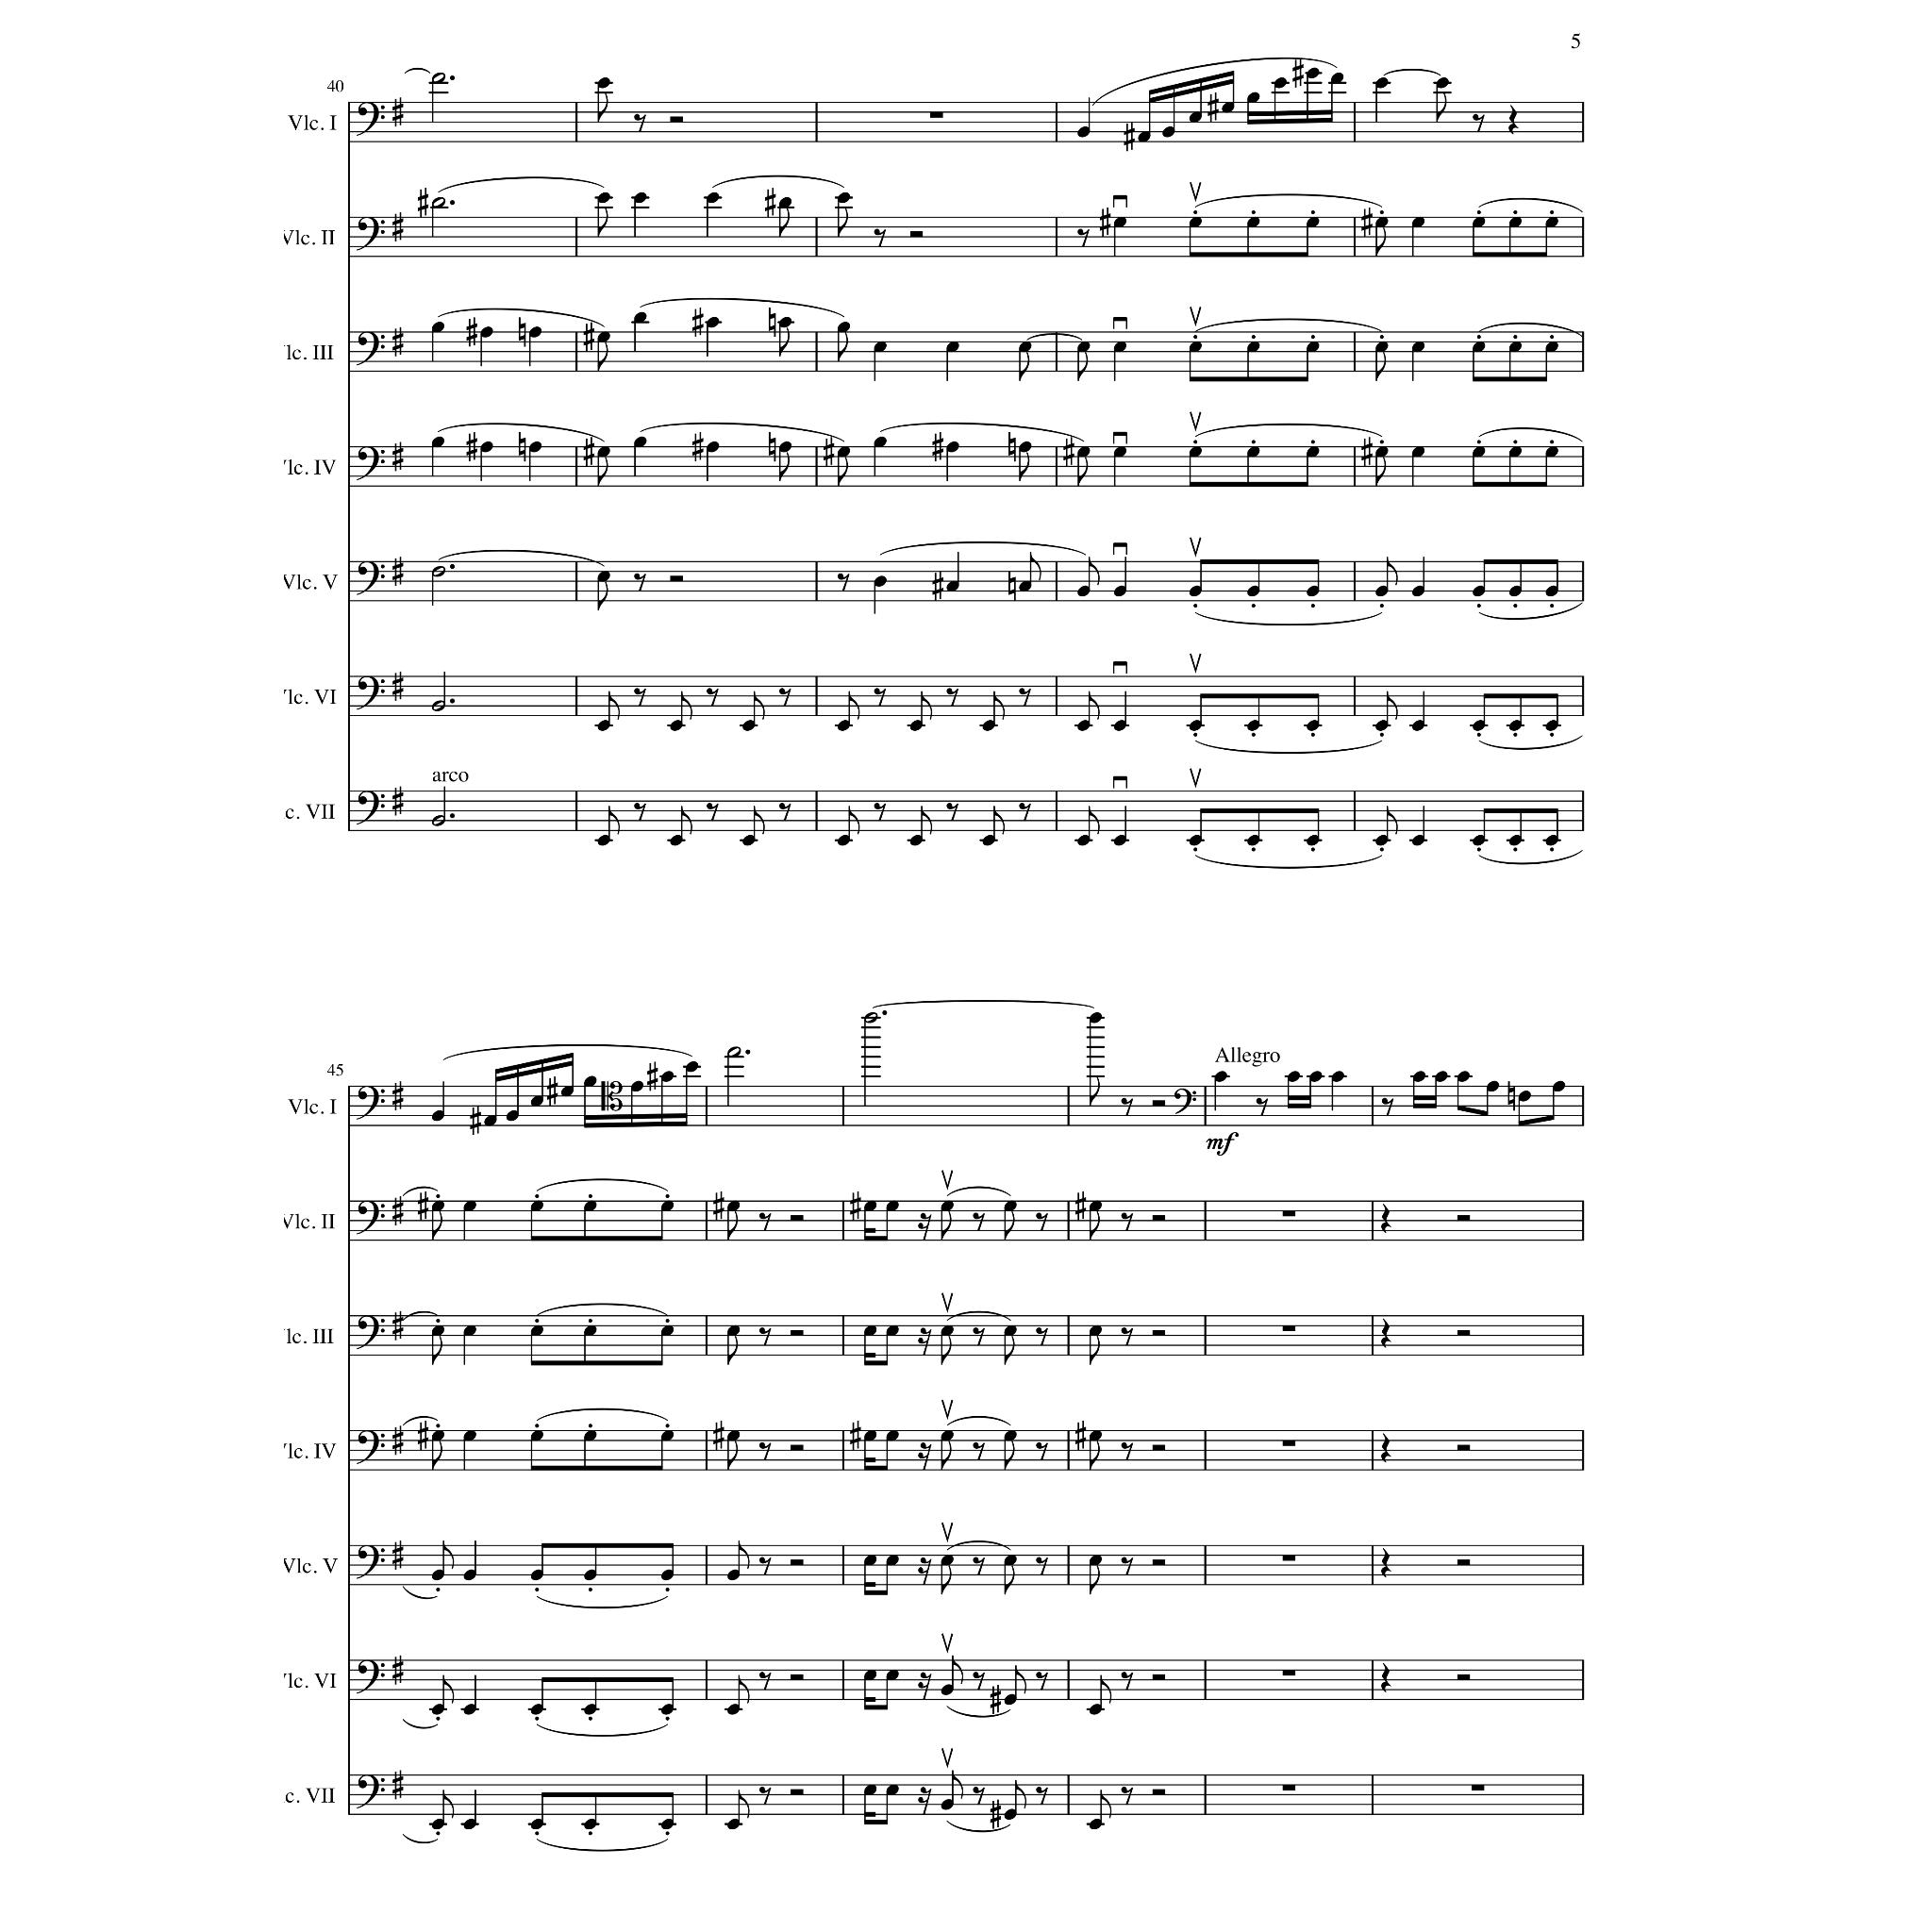fClef: (356, 791, 384, 826), (356, 560, 384, 596), (356, 1774, 384, 1809), (356, 1085, 384, 1121), (356, 1200, 384, 1236), (356, 676, 384, 710), (356, 446, 384, 480), (356, 332, 384, 366), (356, 217, 384, 251), (356, 102, 384, 136), (356, 1660, 384, 1694), (356, 1545, 384, 1579), (356, 1430, 384, 1464), (356, 1315, 384, 1349)
flag8thDown: (1375, 457, 1387, 487), (1436, 92, 1447, 123), (838, 208, 849, 238), (779, 208, 791, 238), (838, 457, 849, 487), (838, 332, 849, 362), (1077, 457, 1089, 487), (1375, 353, 1387, 381), (1375, 228, 1387, 257), (1077, 353, 1089, 381), (1019, 453, 1030, 481), (1019, 353, 1030, 381), (779, 453, 791, 481), (779, 328, 791, 357), (1004, 1566, 1015, 1594), (1004, 1441, 1015, 1470), (1004, 1336, 1015, 1364), (1004, 1211, 1015, 1240), (598, 341, 608, 372), (598, 208, 608, 238), (598, 581, 608, 611), (598, 457, 608, 487), (598, 92, 608, 123), (1091, 1211, 1100, 1240), (1091, 1077, 1100, 1106), (1091, 1336, 1100, 1364), (1091, 1441, 1100, 1470), (1091, 1566, 1100, 1594), (941, 1441, 951, 1470), (941, 1336, 951, 1364), (941, 1211, 951, 1240), (941, 1566, 951, 1594), (432, 1441, 441, 1470), (432, 1336, 441, 1364), (432, 1211, 441, 1240), (728, 1211, 738, 1240), (728, 1336, 738, 1364), (728, 1441, 738, 1470)
flag8thUp: (1089, 806, 1100, 836), (1387, 806, 1398, 836), (608, 806, 620, 836), (681, 806, 692, 836), (921, 806, 932, 836), (993, 806, 1005, 836), (754, 806, 765, 836), (849, 806, 860, 836), (952, 1770, 963, 1800), (1089, 691, 1100, 720), (1387, 691, 1398, 720), (1387, 558, 1398, 586), (608, 691, 620, 720), (681, 691, 692, 720), (921, 691, 932, 720), (1030, 553, 1041, 581), (993, 691, 1005, 720), (754, 691, 765, 720), (1089, 558, 1100, 586), (849, 691, 860, 720), (1101, 1675, 1112, 1704), (1101, 1790, 1112, 1819), (952, 1656, 963, 1684), (1015, 1666, 1026, 1694), (1015, 1780, 1026, 1808), (442, 1790, 454, 1819), (442, 1675, 454, 1704), (442, 1541, 454, 1570), (739, 1790, 750, 1819), (739, 1675, 750, 1704), (739, 1541, 750, 1570)
noteheadBlack: (1247, 445, 1260, 458), (1331, 72, 1344, 85), (1375, 445, 1389, 458), (1307, 445, 1320, 458), (1138, 130, 1151, 143), (1113, 445, 1126, 458), (1189, 445, 1202, 458), (1545, 445, 1558, 458), (1508, 445, 1522, 458), (1412, 445, 1425, 458), (1473, 445, 1486, 458), (597, 445, 610, 458), (1077, 445, 1091, 458), (837, 445, 850, 458), (584, 1075, 597, 1089), (1307, 68, 1320, 79), (1247, 92, 1260, 104), (1307, 341, 1320, 353), (1307, 217, 1320, 228), (1274, 77, 1287, 89), (1247, 835, 1260, 846), (1247, 720, 1260, 731), (1247, 586, 1260, 597), (1247, 341, 1260, 353), (1247, 217, 1260, 228), (1375, 217, 1389, 228), (1375, 77, 1389, 89), (1375, 835, 1389, 846), (1375, 720, 1389, 731), (1375, 586, 1389, 597), (1375, 341, 1389, 353), (1307, 835, 1320, 846), (1307, 720, 1320, 731), (1307, 586, 1320, 597), (1162, 126, 1175, 138), (1113, 835, 1126, 846), (1113, 720, 1126, 731), (1113, 586, 1126, 597), (1113, 341, 1126, 353), (1113, 217, 1126, 228), (1222, 102, 1235, 113), (1189, 835, 1202, 846), (1189, 720, 1202, 731), (1189, 586, 1202, 597), (1189, 341, 1202, 353), (1189, 217, 1202, 228), (1189, 112, 1202, 124), (1545, 835, 1558, 846), (1545, 720, 1558, 731), (1545, 586, 1558, 597), (1545, 341, 1558, 353), (1545, 217, 1558, 228), (1508, 835, 1522, 846), (1508, 720, 1522, 731), (1508, 586, 1522, 597), (1412, 720, 1425, 731), (1412, 835, 1425, 846), (1412, 586, 1425, 597), (1412, 341, 1425, 353), (1412, 217, 1425, 228), (1508, 341, 1522, 353), (1508, 217, 1522, 228), (1436, 77, 1449, 89), (1473, 835, 1486, 846), (1473, 720, 1486, 731), (1473, 586, 1486, 597), (1473, 341, 1486, 353), (1473, 217, 1486, 228), (633, 437, 646, 448), (633, 312, 646, 324), (633, 192, 646, 204), (706, 441, 719, 453), (706, 317, 719, 328), (706, 192, 719, 204), (742, 720, 756, 731), (670, 835, 683, 846), (670, 720, 683, 731), (431, 437, 444, 448), (431, 322, 444, 333), (528, 441, 541, 453), (528, 326, 541, 338), (597, 835, 610, 846), (597, 720, 610, 731), (597, 571, 610, 582), (597, 332, 610, 343), (597, 192, 610, 204), (597, 77, 610, 89), (480, 441, 493, 453), (480, 326, 493, 338), (946, 581, 959, 592), (946, 441, 959, 453), (946, 341, 959, 353), (742, 835, 756, 846), (909, 835, 923, 846), (909, 720, 923, 731), (1077, 720, 1091, 731), (1077, 835, 1091, 846), (1077, 586, 1091, 597), (1077, 341, 1091, 353), (1077, 126, 1091, 138), (1018, 341, 1031, 353), (1018, 441, 1031, 453), (982, 835, 995, 846), (982, 720, 995, 731), (1018, 581, 1031, 592), (837, 192, 850, 204), (837, 835, 850, 846), (837, 720, 850, 731), (837, 322, 850, 333), (778, 441, 791, 453), (778, 317, 791, 328), (778, 197, 791, 208), (874, 575, 887, 587), (874, 437, 887, 448), (874, 341, 887, 353), (1089, 1012, 1102, 1024), (1089, 1819, 1102, 1830), (1089, 1704, 1102, 1715), (1089, 1555, 1102, 1566), (1089, 1430, 1102, 1441), (1089, 1325, 1102, 1337), (1089, 1201, 1102, 1212), (941, 1799, 954, 1810), (941, 1684, 954, 1695), (941, 1555, 954, 1566), (941, 1430, 954, 1441), (941, 1325, 954, 1337), (941, 1201, 954, 1212), (1004, 1325, 1017, 1337), (1004, 1808, 1017, 1820), (1004, 1694, 1017, 1706), (1004, 1555, 1017, 1566), (1004, 1430, 1017, 1441), (1004, 1201, 1017, 1212), (1486, 1081, 1499, 1092), (1553, 1081, 1566, 1092), (1518, 1091, 1531, 1102), (1435, 1071, 1448, 1082), (1413, 1071, 1426, 1082), (1457, 1071, 1470, 1082), (1214, 1071, 1227, 1082), (1287, 1071, 1300, 1082), (1309, 1071, 1323, 1082), (1331, 1071, 1344, 1082), (584, 1569, 597, 1580), (584, 1430, 597, 1441), (584, 1325, 597, 1337), (584, 1201, 597, 1212), (560, 1086, 574, 1097), (530, 1095, 543, 1107), (530, 1704, 543, 1715), (530, 1569, 543, 1580), (530, 1430, 543, 1441), (530, 1325, 543, 1337), (530, 1201, 543, 1212), (506, 1110, 519, 1122), (584, 1704, 597, 1715), (530, 1819, 543, 1830), (660, 1325, 674, 1337), (660, 1201, 674, 1212), (660, 1071, 674, 1082), (660, 1430, 674, 1441), (630, 1081, 643, 1092), (660, 1819, 674, 1830), (660, 1704, 674, 1715), (660, 1569, 674, 1580), (584, 1819, 597, 1830), (431, 1430, 444, 1441), (431, 1819, 444, 1830), (431, 1704, 444, 1715), (431, 1569, 444, 1580), (431, 1325, 444, 1337), (431, 1201, 444, 1212), (431, 1110, 444, 1122), (463, 1819, 476, 1830), (463, 1704, 476, 1715), (463, 1569, 476, 1580), (463, 1430, 476, 1441), (463, 1325, 476, 1337), (463, 1201, 476, 1212), (484, 1115, 497, 1126), (863, 1784, 876, 1795), (863, 1670, 876, 1681), (863, 1555, 876, 1566), (863, 1430, 876, 1441), (863, 1325, 876, 1337), (863, 1201, 876, 1212), (886, 1201, 899, 1212), (886, 1325, 899, 1337), (886, 1670, 899, 1681), (886, 1784, 899, 1795), (886, 1430, 899, 1441), (886, 1555, 899, 1566), (727, 1201, 741, 1212), (727, 1819, 741, 1830), (727, 1704, 741, 1715), (727, 1569, 741, 1580), (727, 1430, 741, 1441), (727, 1325, 741, 1337), (685, 1061, 698, 1073)
noteheadHalf: (432, 72, 445, 85), (726, 1046, 741, 1058), (432, 566, 445, 577), (432, 815, 445, 826), (432, 701, 445, 712), (432, 197, 445, 208), (864, 1012, 877, 1024)
rest16th: (917, 1327, 932, 1356), (917, 1787, 932, 1815), (917, 1673, 932, 1701), (917, 1557, 932, 1586), (917, 1442, 932, 1471), (917, 1213, 932, 1241)
rest8th: (1473, 114, 1486, 133), (633, 803, 646, 822), (633, 688, 646, 707), (633, 574, 646, 592), (633, 114, 646, 133), (706, 803, 719, 822), (706, 688, 719, 707), (945, 803, 958, 822), (945, 688, 958, 707), (1018, 803, 1031, 822), (1018, 688, 1031, 707), (837, 574, 850, 592), (778, 803, 791, 822), (778, 688, 791, 707), (874, 803, 887, 822), (874, 688, 887, 707), (874, 229, 887, 248), (1121, 1672, 1134, 1690), (1121, 1327, 1134, 1346), (1121, 1442, 1134, 1461), (1121, 1557, 1134, 1575), (1121, 1787, 1134, 1806), (1121, 1213, 1134, 1232), (1121, 1098, 1134, 1117), (973, 1442, 986, 1461), (973, 1327, 986, 1346), (973, 1213, 986, 1232), (973, 1557, 986, 1575), (1035, 1787, 1048, 1806), (1035, 1672, 1048, 1690), (1035, 1557, 1048, 1575), (1035, 1442, 1048, 1461), (1035, 1327, 1048, 1346), (1035, 1213, 1048, 1232), (973, 1787, 986, 1806), (973, 1672, 986, 1690), (1256, 1098, 1269, 1117), (1381, 1098, 1394, 1117), (758, 1557, 772, 1575), (758, 1787, 772, 1806), (758, 1672, 772, 1690), (758, 1442, 772, 1461), (758, 1327, 772, 1346), (758, 1213, 772, 1232), (1077, 229, 1089, 248)
restHalf: (1457, 1674, 1472, 1681), (1457, 1558, 1472, 1566), (670, 575, 683, 583), (909, 230, 923, 238), (1152, 1789, 1165, 1796), (1152, 1674, 1165, 1681), (1152, 1558, 1165, 1566), (1152, 1100, 1165, 1108), (790, 1674, 803, 1681), (790, 1789, 803, 1796), (790, 1558, 803, 1566), (1457, 1445, 1472, 1451), (1457, 1330, 1472, 1336), (1457, 1215, 1472, 1221), (670, 117, 683, 123), (1152, 1215, 1165, 1221), (1152, 1445, 1165, 1451), (1152, 1330, 1165, 1336), (790, 1445, 803, 1451), (790, 1330, 803, 1336), (790, 1215, 803, 1221)
restQuarter: (1381, 1204, 1392, 1234), (1381, 1662, 1392, 1692), (1381, 1548, 1392, 1578), (1381, 1433, 1392, 1463), (1381, 1318, 1392, 1348), (1509, 105, 1519, 135)
restWhole: (930, 111, 943, 119), (1282, 1324, 1295, 1332), (1282, 1555, 1295, 1562), (1282, 1211, 1295, 1217), (1282, 1441, 1295, 1446), (1282, 1670, 1295, 1675), (1282, 1785, 1295, 1790), (1472, 1785, 1485, 1790)
